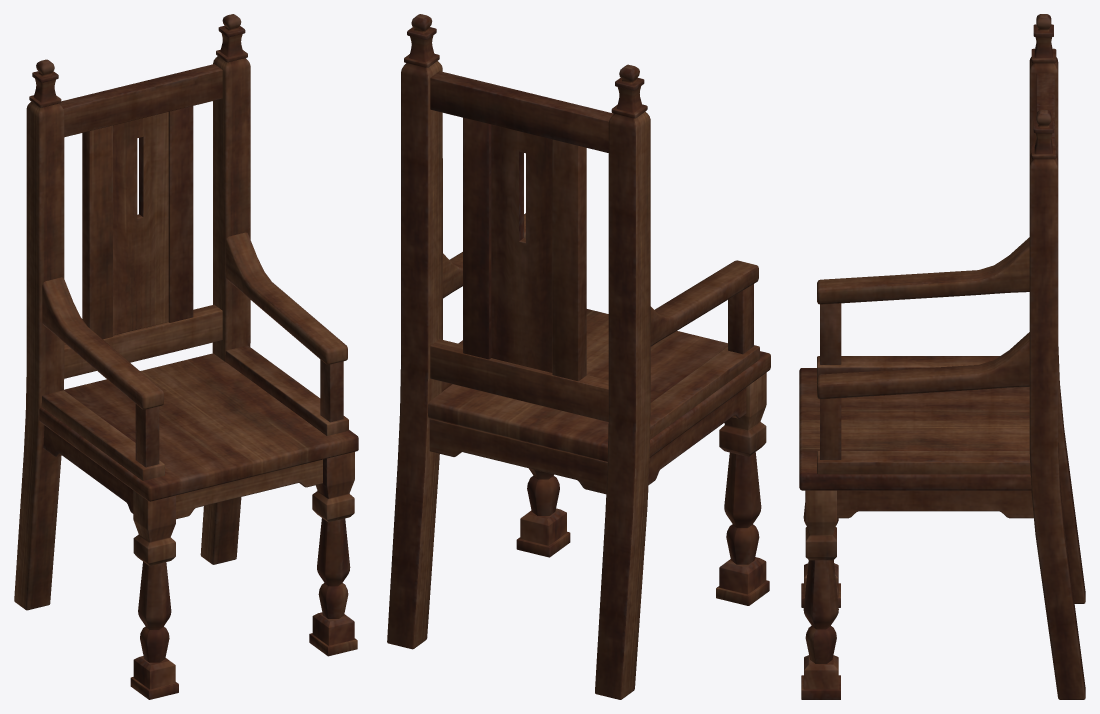
The model's file is Chair_B.fbx.
The picture shows the model from 3 angles, left to right: view 1: azimuth 30°, elevation 25°; view 2: azimuth 150°, elevation 25°; view 3: azimuth 270°, elevation 25°; orthographic projection. The views are drawn at different scales.
Parts seen in each view (by area): view 1: Chair_B; view 2: Chair_B; view 3: Chair_B.
Part boxes in pixels (x1,y1,x2,y2): Chair_B: (14, 14, 358, 699); Chair_B: (387, 14, 770, 699); Chair_B: (799, 14, 1085, 699).
Bounding box in the file's own units: 0.6576 × 1.64 × 0.7278.
